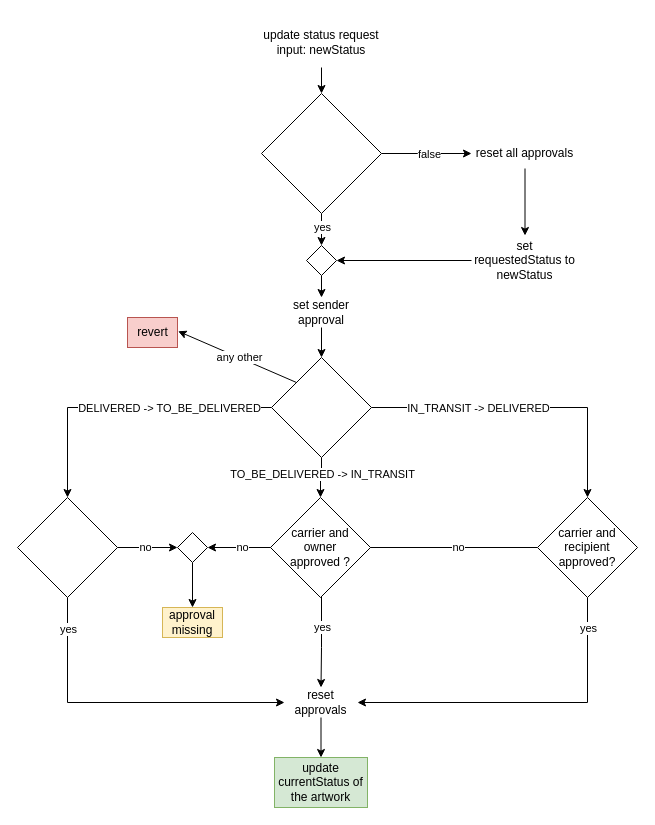
Some shapes in this 655 by 825 pixel diagram are drawn without their labels. The centre of each missing label's shape, as x and y in pixels:
"owner approved ?" belongs at pixel 67 547.
"requestedStatus is equal to newStatus?" belongs at pixel 321 153.
"which status change?" belongs at pixel 321 407.
